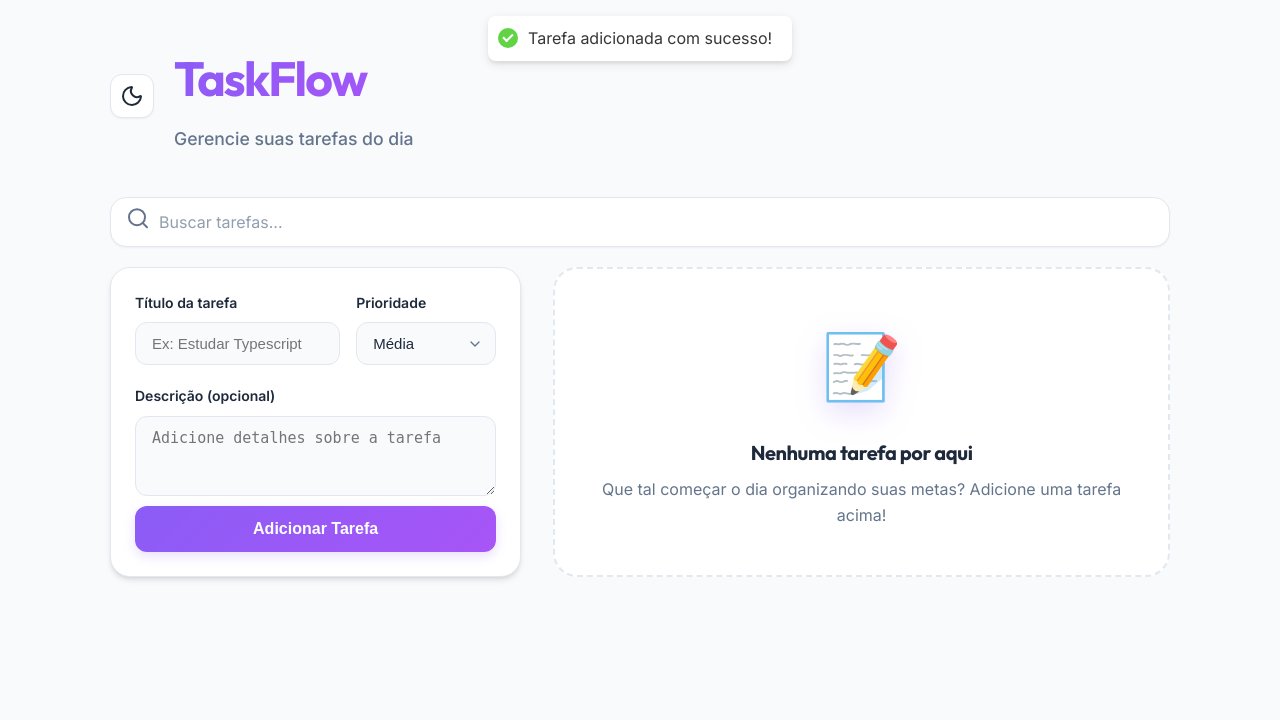
App Integration › deve abrir o modal de edição, alterar uma tarefa e salvar
The width and height of the screenshot is (1280, 720).
Type "Tarefa Original" into the field with placeholder "Ex: Estudar Typescript".
click(238, 344); type("Tarefa Original")  # box [135, 322, 340, 365]
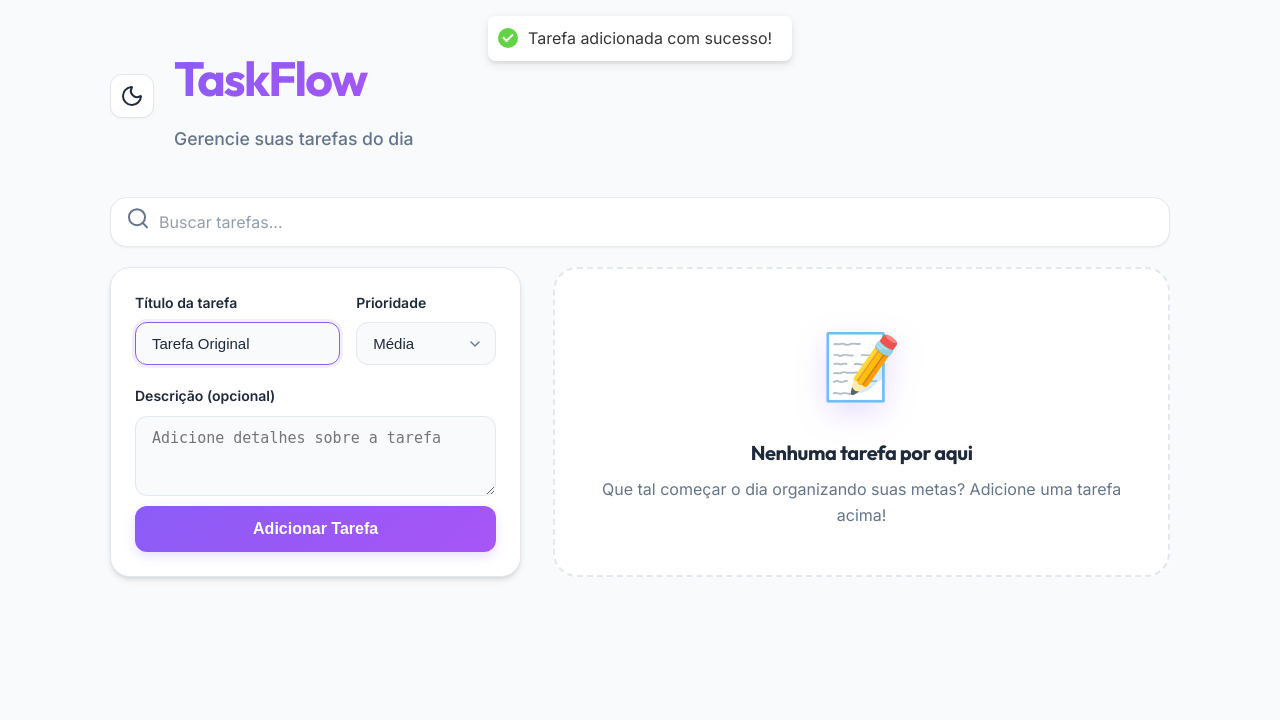
Click the button "Adicionar Tarefa".
click(316, 529)  # box [135, 506, 496, 552]
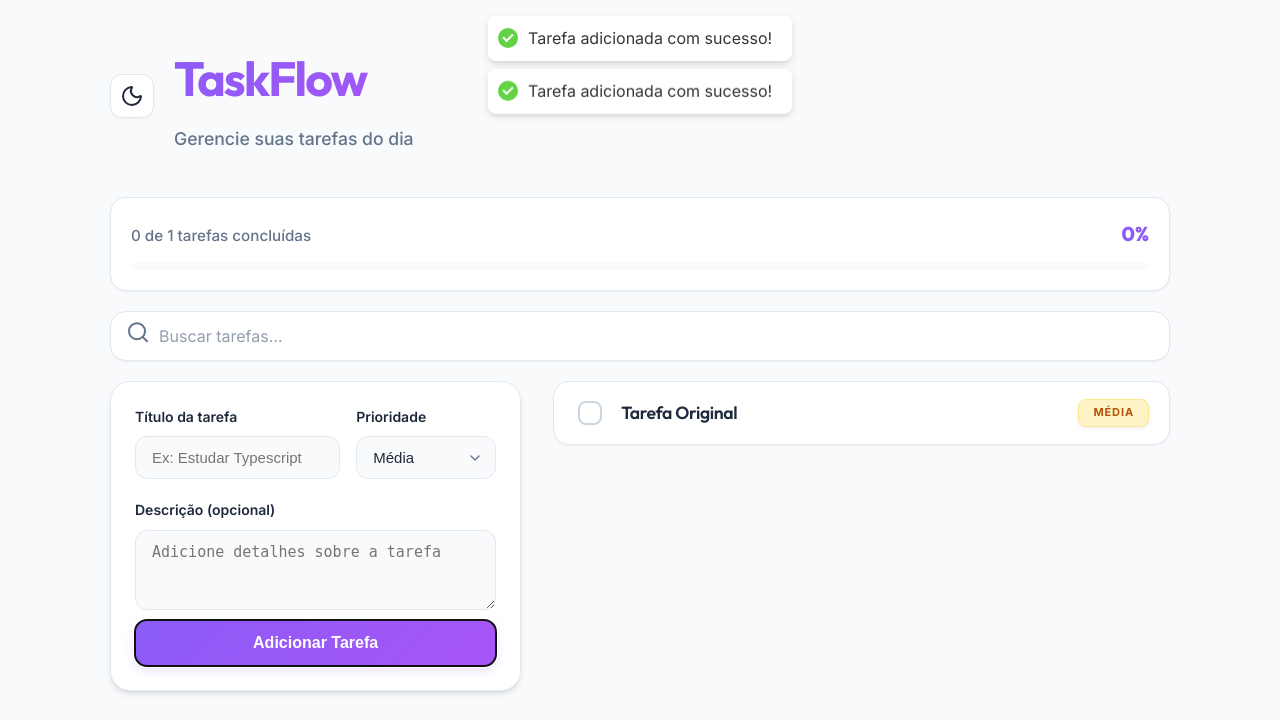
Click the button with aria-label "editar tarefa".
click(679, 412)  # box [553, 381, 1170, 445]
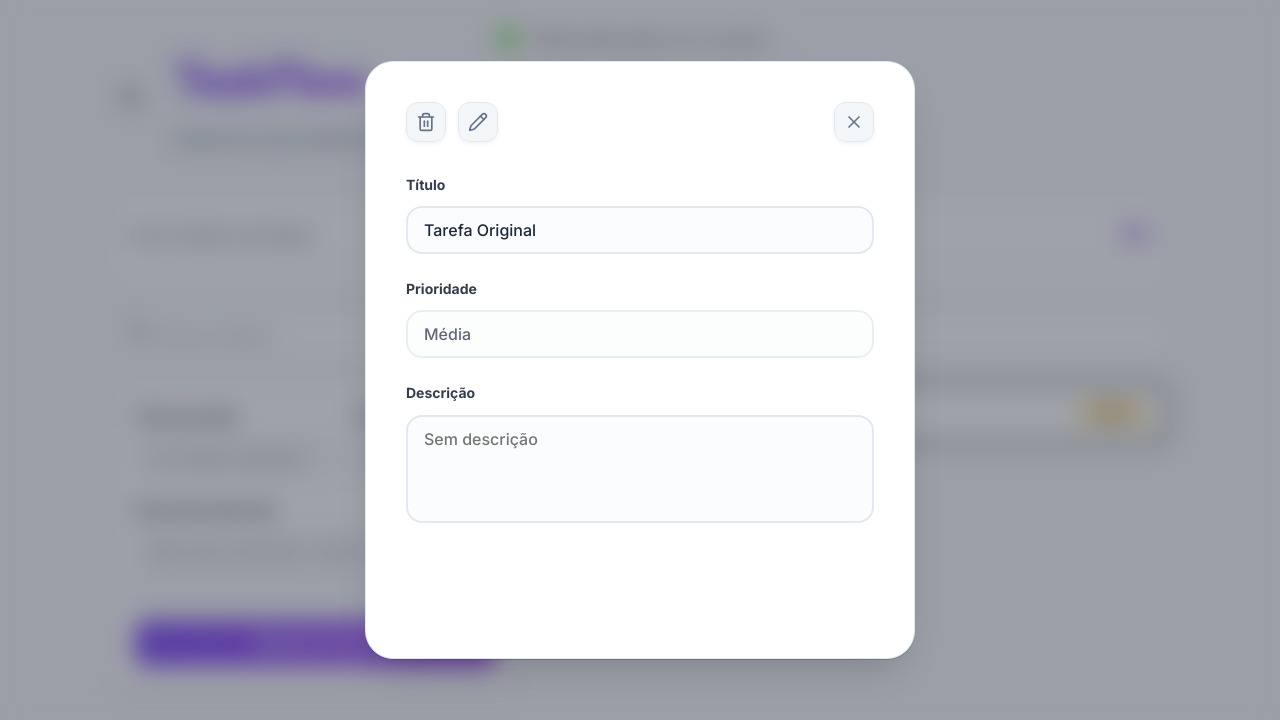
Click the button named "editar tarefa".
click(478, 122)  # box [458, 102, 498, 142]
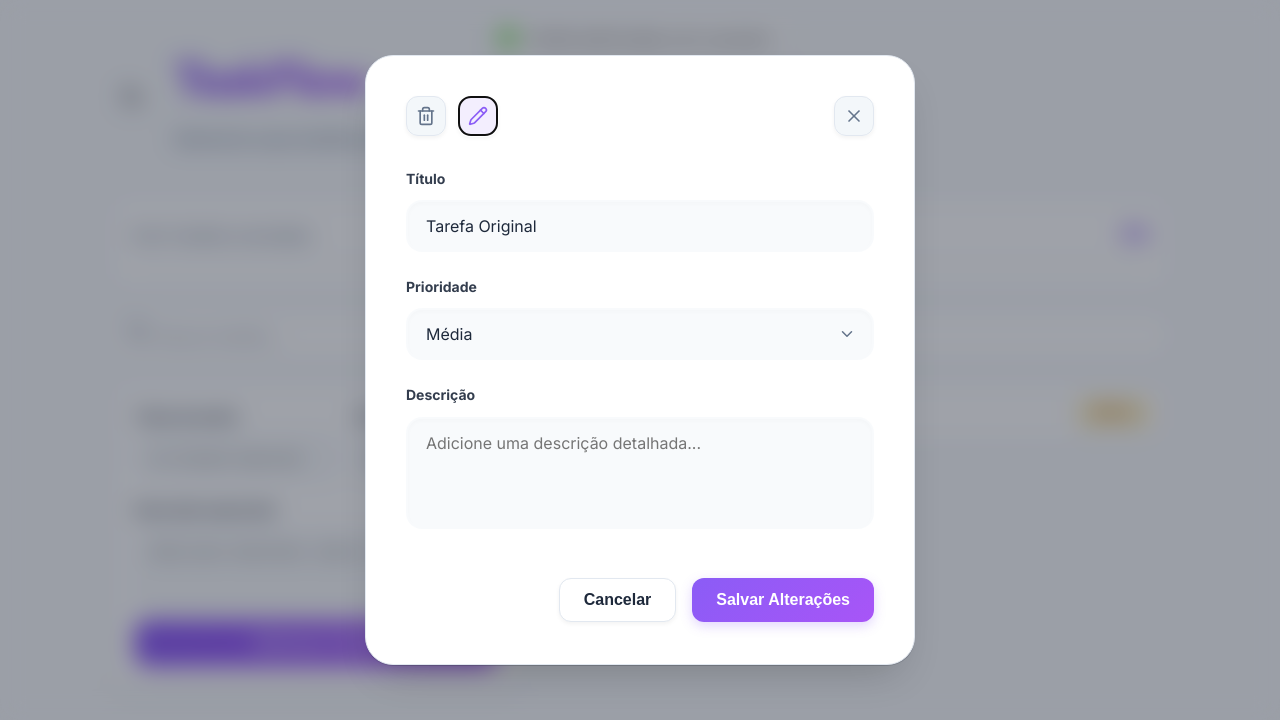
Replace the text in the field showing "Tarefa Original" with "Tarefa Editada" at (640, 226), box [406, 200, 874, 252]
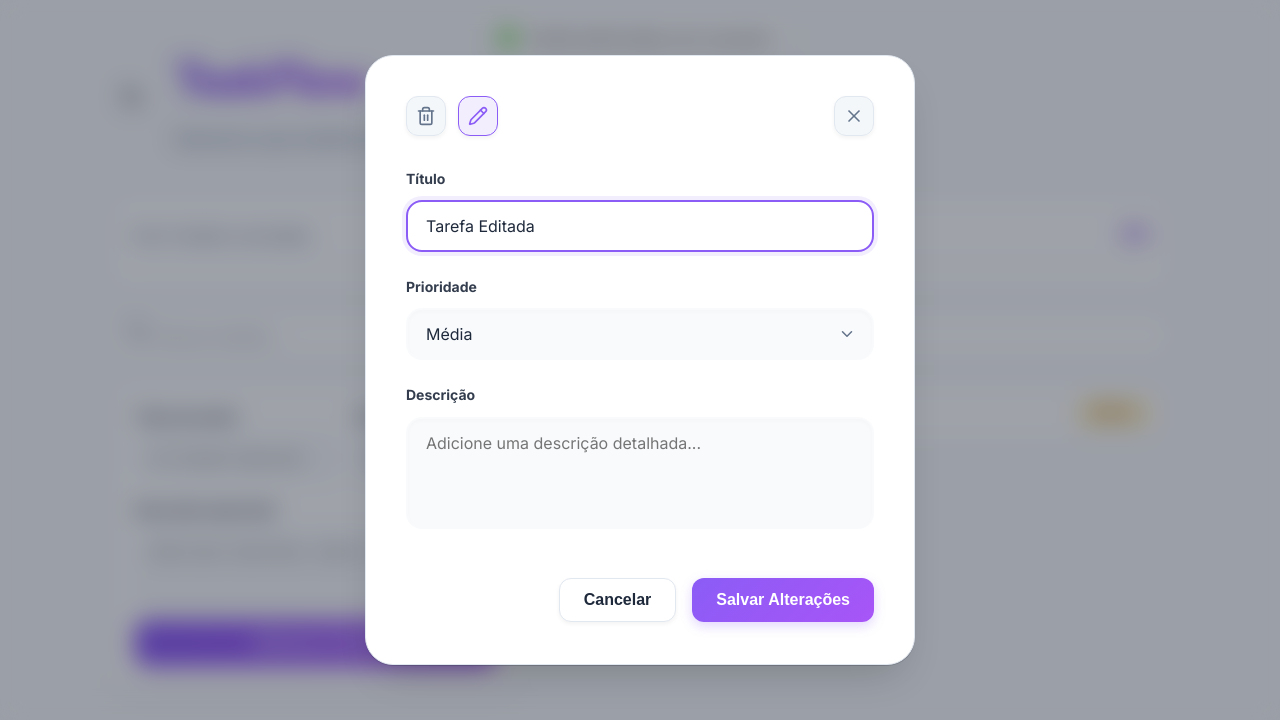
Click the button "Salvar Alterações".
click(783, 600)  # box [692, 578, 874, 622]
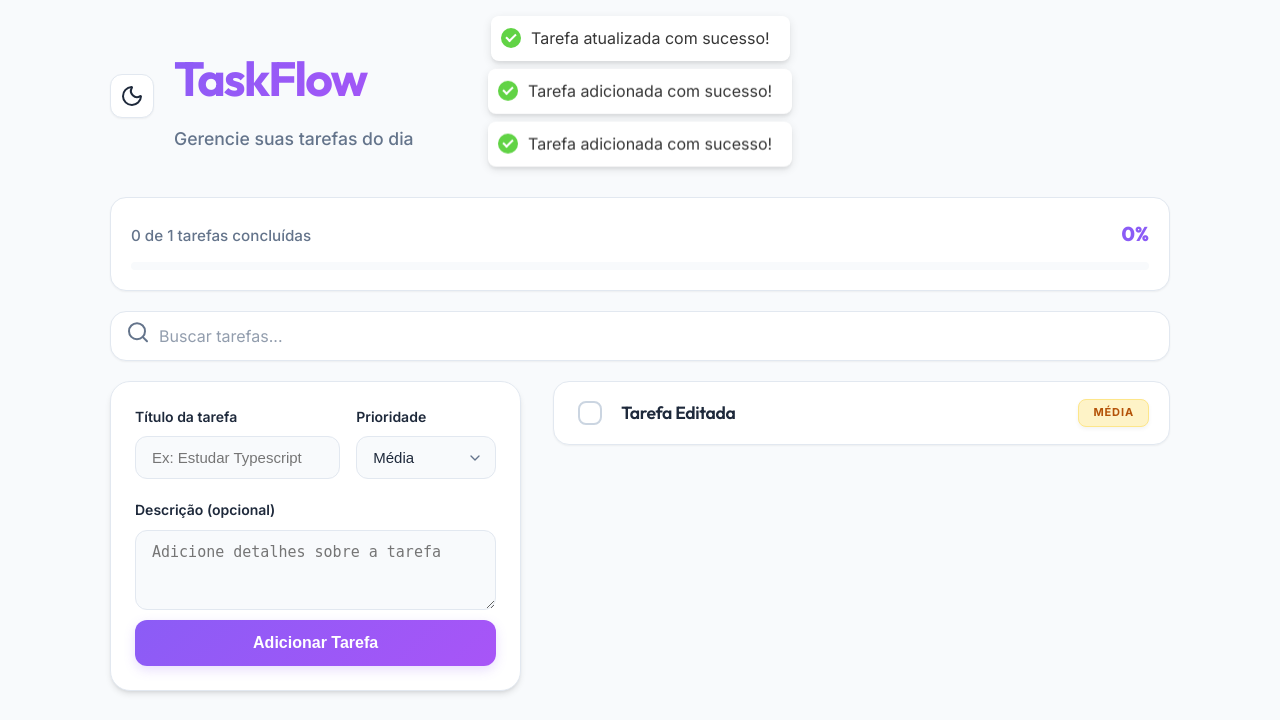
Check: the heading "Tarefa Editada" is shown, box [621, 401, 736, 424]
Check: the button "Tarefa Original" is gone
